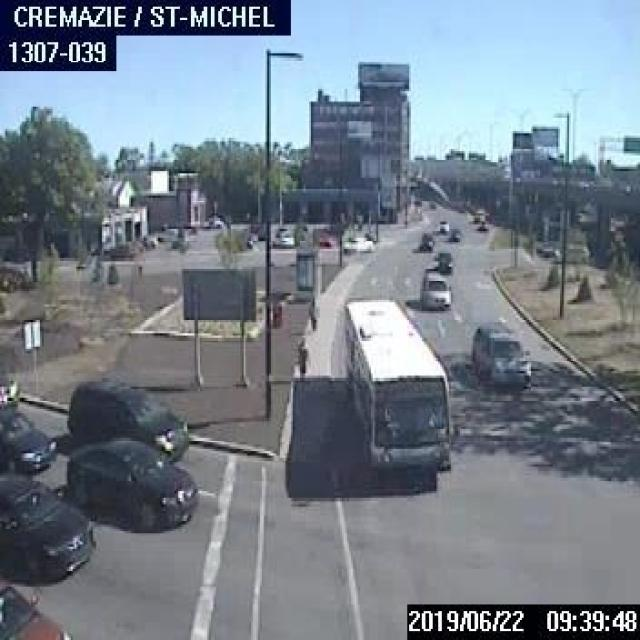bus: (343, 297, 451, 473)
pedestrian: (296, 334, 308, 376), (306, 296, 318, 331)
vehicle: (64, 435, 196, 530), (66, 374, 187, 461), (0, 473, 93, 582), (469, 318, 530, 387), (0, 580, 71, 638), (0, 404, 56, 473), (418, 271, 451, 309), (0, 368, 18, 408), (556, 243, 588, 263), (342, 235, 374, 251), (432, 250, 451, 272), (270, 228, 293, 244), (535, 242, 558, 256), (417, 230, 433, 250), (446, 226, 460, 241), (437, 218, 448, 232), (476, 219, 487, 230), (427, 199, 435, 209)
